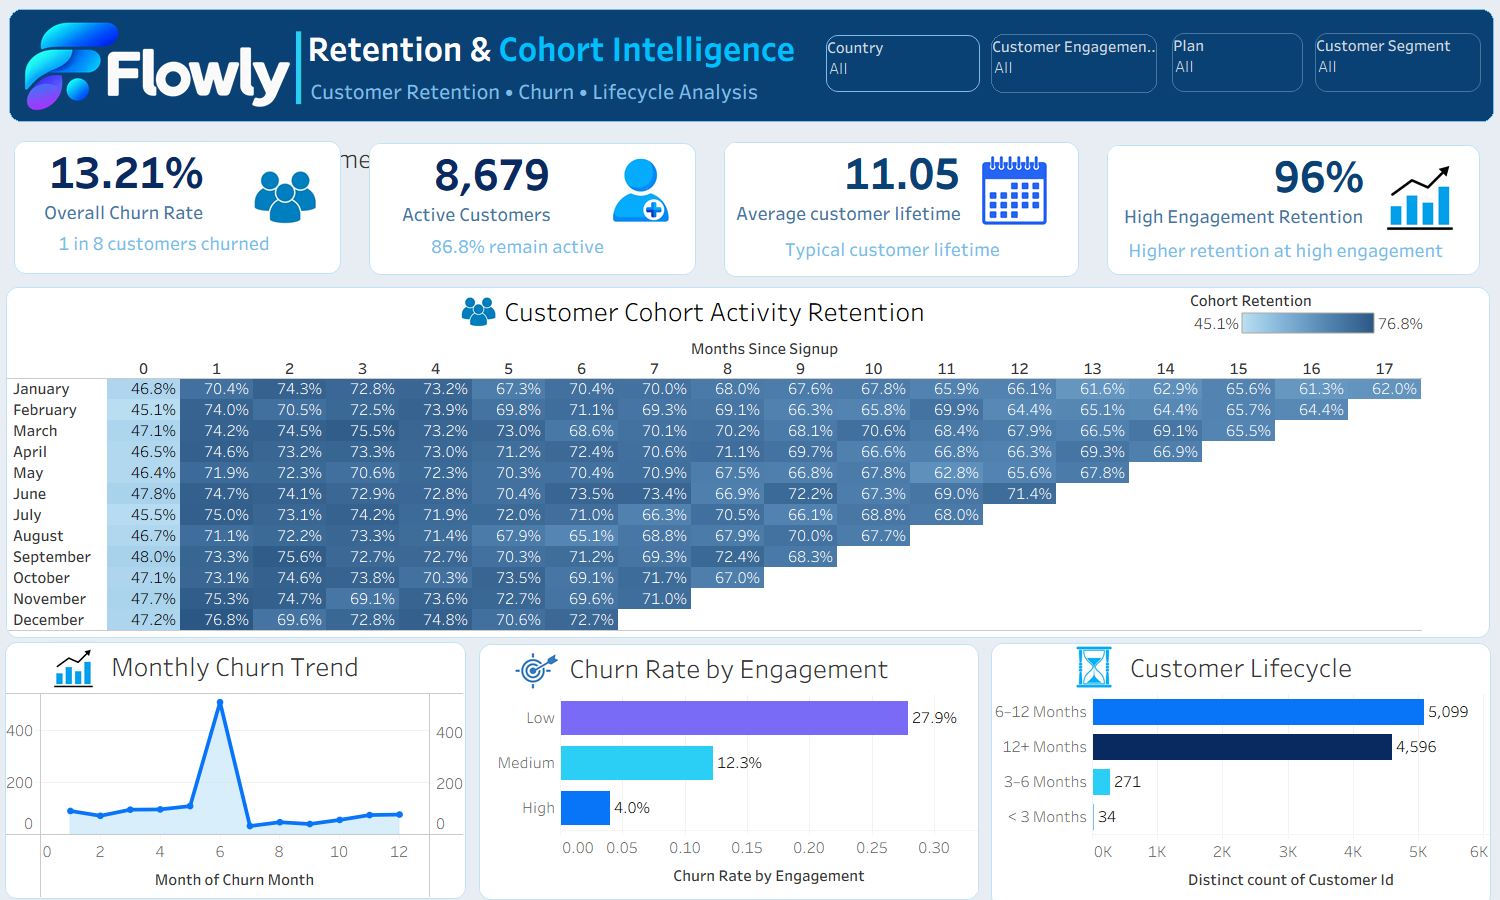

The dashboard page shown, as its layout file describes it:
{"tool":"tableau","page":{"name":"Flowly Retention Intelligence","canvas":[1500,900],"ordinal":2},"visuals":[{"type":"image","param":"C:/Users/sneha/Downloads/Glossy Flowly Gradient Logo.png","box":[13.5,11.2,292.7,103.5]},{"type":"text","box":[304.2,14.6,530.2,66.4]},{"type":"text","box":[274,25,53,85]},{"type":"filter","title":"Customer Engagement","param":"[federated.186rmt7171jtv319xoaxd0jz2uva].[none:plan:nk]","box":[1171.9,32.6,131.2,59.6]},{"type":"filter","title":"Customer Engagement","param":"[federated.186rmt7171jtv319xoaxd0jz2uva].[none:customer_segment:nk]","box":[1314.6,32.6,166.7,59.6]},{"type":"filter","title":"Customer Engagement","param":"[federated.186rmt7171jtv319xoaxd0jz2uva].[none:Calculation_1554211411132417:nk]","box":[990.6,33.8,166.7,59.6]},{"type":"filter","title":"Customer Engagement","param":"[federated.186rmt7171jtv319xoaxd0jz2uva].[none:country:nk]","box":[826,34.9,154.2,57.4]},{"type":"text","box":[307.3,74.2,474,33.8]},{"type":"worksheet","title":"Customer Engagement","mark":"Circle","rows":["Calculation_0154532800147460"],"cols":["Calculation_0154532799500291"],"box":[125,135,1,1.1]},{"type":"worksheet","title":"Overall Churn Rate","mark":"Automatic","box":[13.5,140.8,327.1,133.4]},{"type":"worksheet","title":"Avg Subscription Duration.","mark":"Automatic","box":[724,141.9,355.2,135.5]},{"type":"worksheet","title":"Active Customers","mark":"Automatic","box":[368.7,142.9,327.1,132.4]},{"type":"worksheet","title":"High Engagement Retention","mark":"Automatic","box":[1107.3,145.1,372.9,130.2]},{"type":"image","param":"C:/Users/sneha/Downloads/P9.jpeg","box":[976,152.5,76,77.3]},{"type":"image","param":"C:/Users/sneha/Downloads/P10.jpeg","box":[607.3,156.7,78.1,66.7]},{"type":"image","param":"C:/Users/sneha/Downloads/P1.jpeg","box":[252.1,159.9,70.8,66.7]},{"type":"image","param":"C:/Users/sneha/Downloads/P5.jpeg","box":[1382.3,159.9,82.3,75.2]},{"type":"text","box":[375,221.3,285.4,48.7]},{"type":"text","box":[25,226.6,278.1,31.8]},{"type":"text","box":[777.1,232.9,231.3,31.8]},{"type":"text","box":[1125,234,335.4,31.8]},{"type":"legend","title":"Signup Cohort","param":"[federated.186rmt7171jtv319xoaxd0jz2uva].[usr:Calculation_1554211495108622:qk]","box":[1189.6,286.3,238.5,55.8]},{"type":"worksheet","title":"Signup Cohort","mark":"Square","rows":["Calculation_1554211484471302"],"cols":["Calculation_1554211484659720"],"box":[6.3,287,1483.3,351]},{"type":"image","param":"C:/Users/sneha/Downloads/P1.jpeg","box":[480.2,293,42.7,37]},{"type":"worksheet","title":"Monthly Churn Trend","mark":"Line","rows":["customer_id","customer_id"],"cols":["Calculation_1554211497590799"],"box":[5.2,642,460.4,257]},{"type":"worksheet","title":"Churn Rate by Engagement","mark":"Automatic","rows":["Calculation_1554211411132417"],"cols":["Calculation_1554211422593027"],"box":[479.2,644,500,256]},{"type":"image","param":"C:/Users/sneha/Downloads/P13.jpeg","box":[1070.8,644,51,45]},{"type":"image","param":"C:/Users/sneha/Downloads/P5.jpeg","box":[51,646,45.8,44]},{"type":"image","param":"C:/Users/sneha/Downloads/P11.jpeg","box":[513.5,649,49,44]}]}

Visuals, with their boxes in screenshot pixels (x1, y1, x2, y2), scaled from the page's 1500x900 canvas onto the 1500x900 screenshot:
image: select_region(14, 11, 306, 115)
text: select_region(304, 15, 834, 81)
text: select_region(274, 25, 327, 110)
"Customer Engagement" filter: select_region(1172, 33, 1303, 92)
"Customer Engagement" filter: select_region(1315, 33, 1481, 92)
"Customer Engagement" filter: select_region(991, 34, 1157, 93)
"Customer Engagement" filter: select_region(826, 35, 980, 92)
text: select_region(307, 74, 781, 108)
"Customer Engagement" worksheet (Circle marks): select_region(125, 135, 126, 136)
"Overall Churn Rate" worksheet: select_region(14, 141, 341, 274)
"Avg Subscription Duration." worksheet: select_region(724, 142, 1079, 277)
"Active Customers" worksheet: select_region(369, 143, 696, 275)
"High Engagement Retention" worksheet: select_region(1107, 145, 1480, 275)
image: select_region(976, 152, 1052, 230)
image: select_region(607, 157, 685, 223)
image: select_region(252, 160, 323, 227)
image: select_region(1382, 160, 1465, 235)
text: select_region(375, 221, 660, 270)
text: select_region(25, 227, 303, 258)
text: select_region(777, 233, 1008, 265)
text: select_region(1125, 234, 1460, 266)
"Signup Cohort" legend: select_region(1190, 286, 1428, 342)
"Signup Cohort" worksheet (Square marks): select_region(6, 287, 1490, 638)
image: select_region(480, 293, 523, 330)
"Monthly Churn Trend" worksheet (Line marks): select_region(5, 642, 466, 899)
"Churn Rate by Engagement" worksheet: select_region(479, 644, 979, 899)
image: select_region(1071, 644, 1122, 689)
image: select_region(51, 646, 97, 690)
image: select_region(514, 649, 562, 693)
